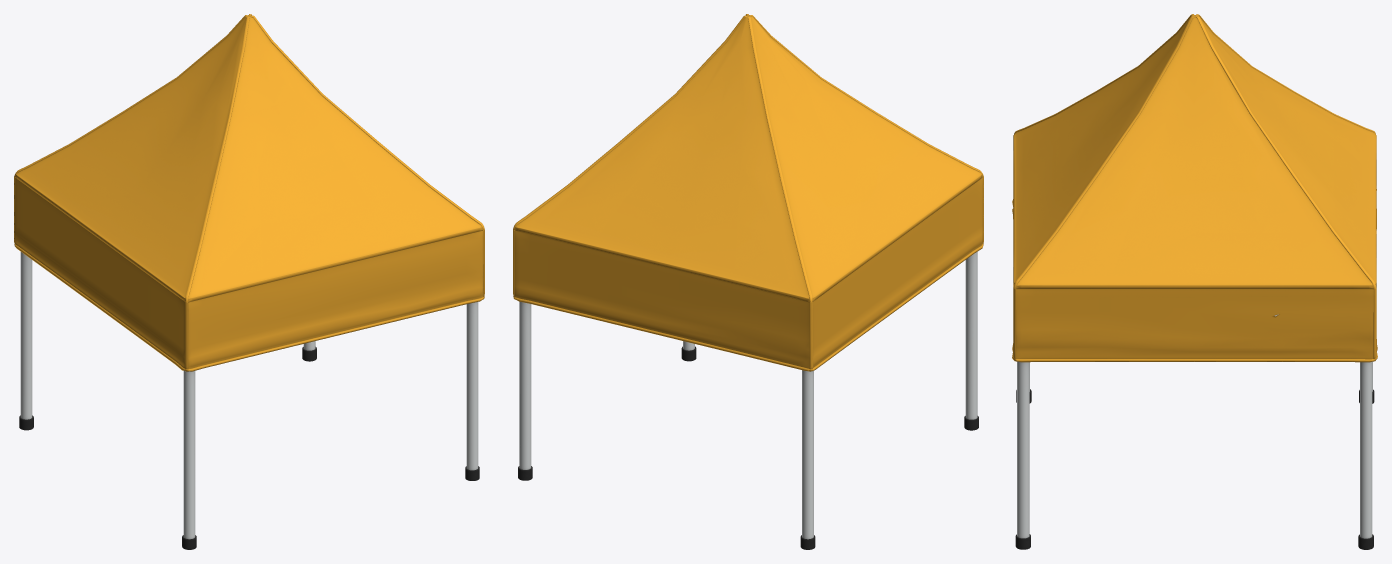
Rendered from tent-6.5x6.5.glb.
The picture shows the model from 3 angles, left to right: view 1: azimuth 30°, elevation 25°; view 2: azimuth 150°, elevation 25°; view 3: azimuth 270°, elevation 25°; orthographic projection. The views are drawn at different scales.
Parts seen in each view (by area): view 1: fabric, leg; view 2: fabric, leg; view 3: fabric, leg.
Part boxes in pixels (x1,y1,x2,y2): fabric: [14, 14, 484, 371]; leg: [19, 252, 479, 549]; fabric: [513, 14, 983, 371]; leg: [518, 251, 978, 549]; fabric: [1012, 14, 1377, 362]; leg: [1015, 361, 1374, 549].
Bounding box in the file's own units: 1.53 × 2.12 × 1.53.
3 materials, 2 textured.
